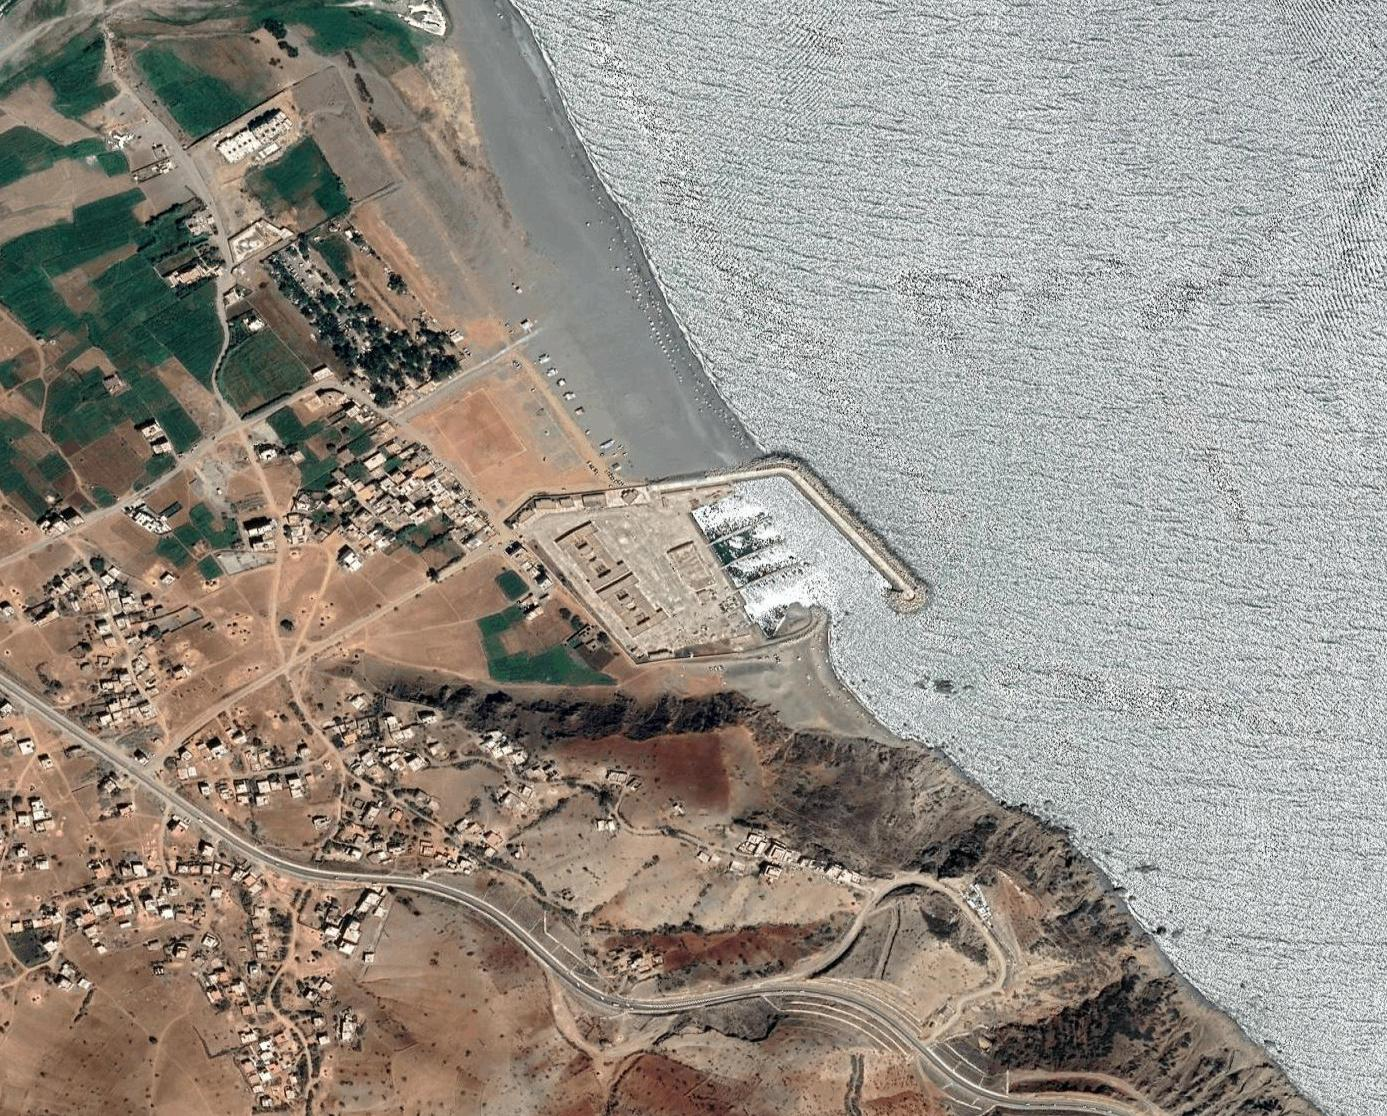harbor: (496, 384, 957, 695)
motorway: (834, 979, 1122, 1116), (1, 668, 156, 783), (153, 780, 307, 879), (305, 862, 506, 926), (504, 922, 634, 1014), (633, 968, 835, 1019)
